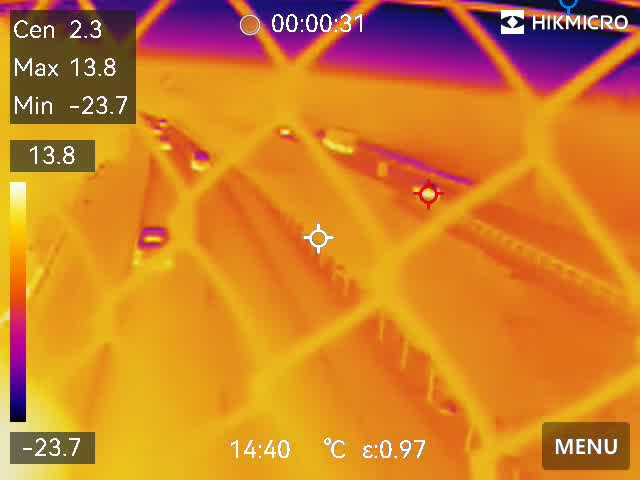heavyTruck: (316, 123, 360, 154)
vehicle: (130, 222, 177, 276), (407, 181, 442, 201), (191, 149, 214, 174), (156, 138, 172, 154), (157, 117, 168, 129)
